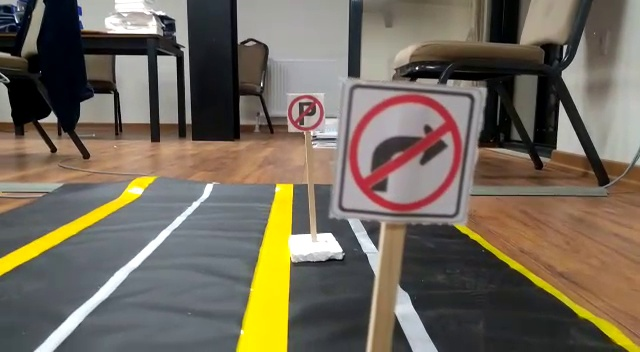park_yapilmaz: (283, 94, 326, 128)
saga_donulmez: (339, 81, 467, 220)
